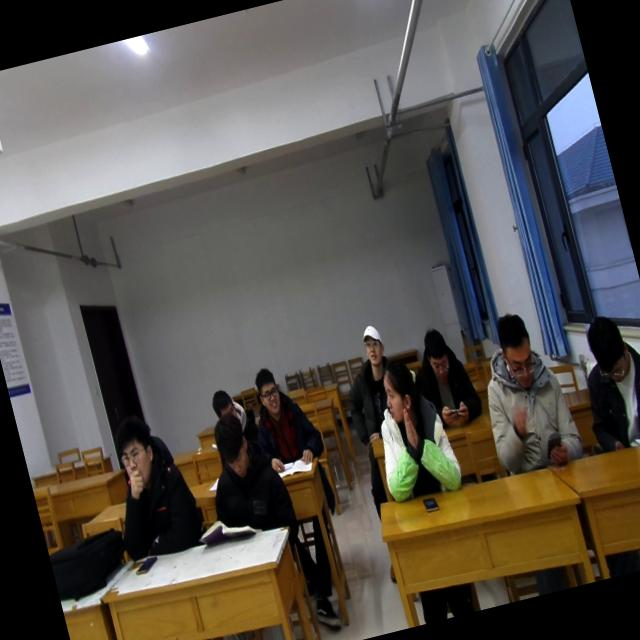down: (487, 304, 547, 394), (576, 301, 636, 388), (208, 410, 259, 490), (416, 324, 456, 388), (205, 381, 242, 426)
lookup: (106, 407, 166, 496), (247, 361, 286, 418), (352, 318, 388, 371)
sit: (463, 303, 588, 477), (86, 404, 208, 568), (357, 355, 465, 508), (190, 403, 300, 546), (566, 305, 640, 455), (324, 315, 408, 445), (239, 358, 328, 480), (399, 321, 486, 427), (200, 382, 260, 456)
